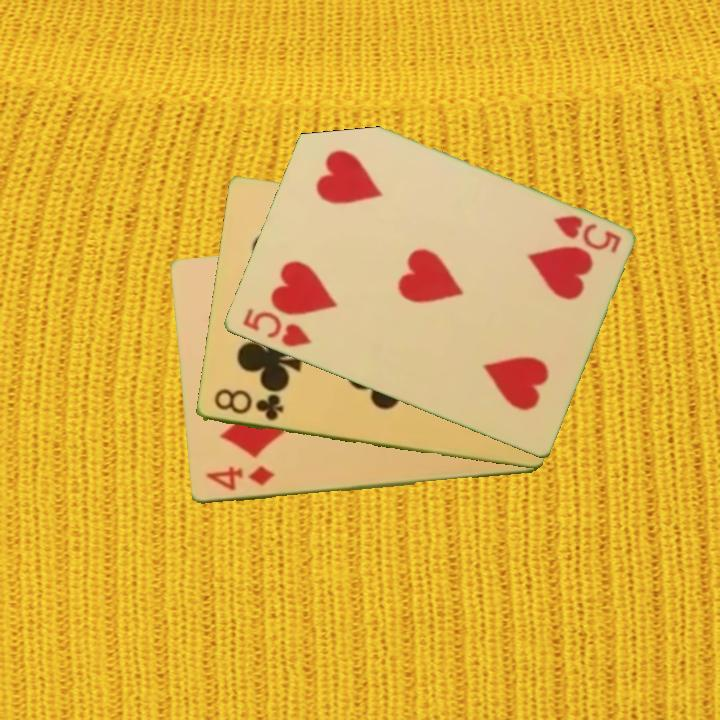4d: (202, 463, 278, 494)
5h: (238, 305, 314, 351), (549, 212, 624, 257)
8c: (210, 385, 286, 424)
